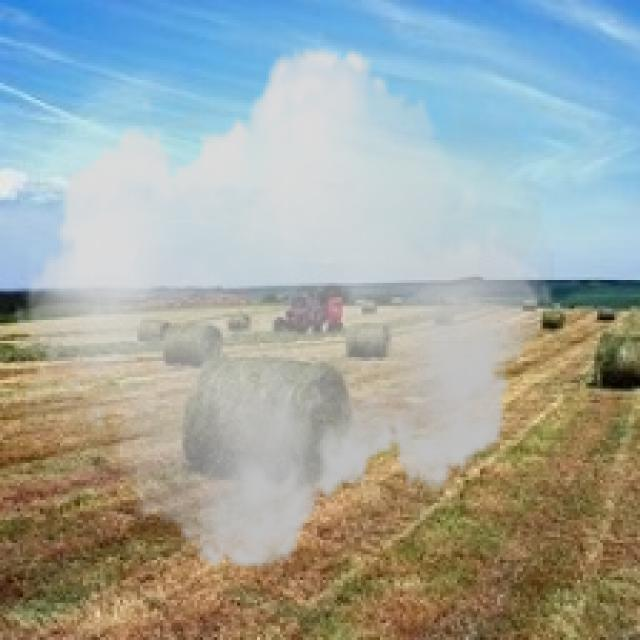Smoke: (14, 26, 554, 592)
